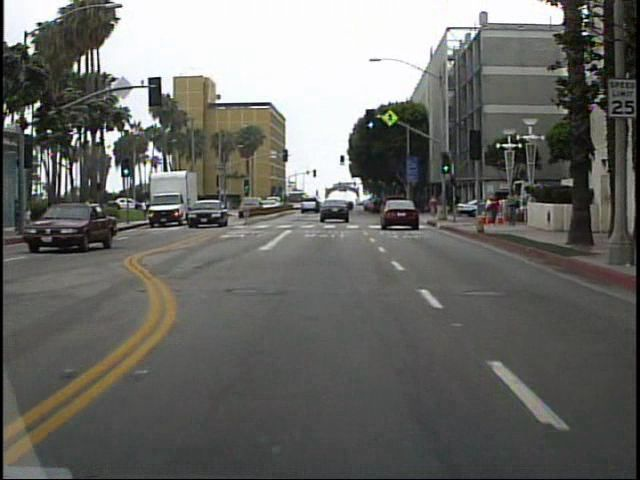person: (79, 194, 97, 237), (425, 194, 440, 218)
